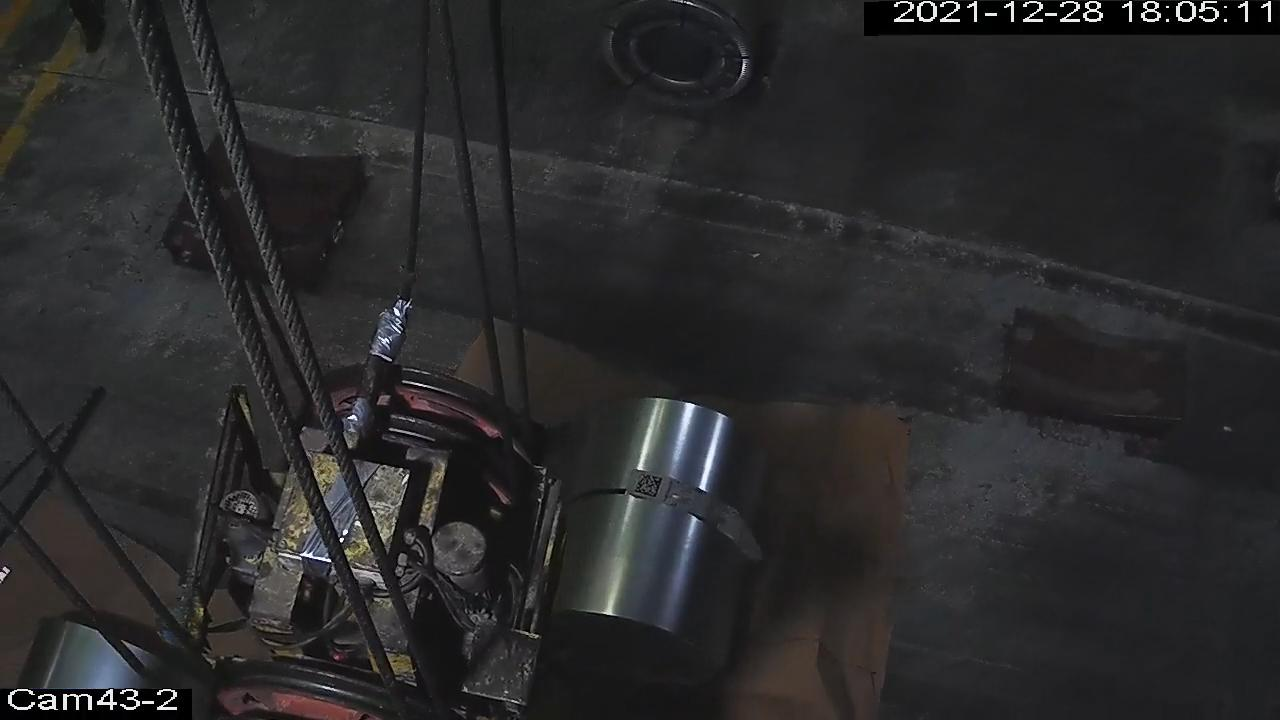data matrix: (633, 471, 665, 501)
